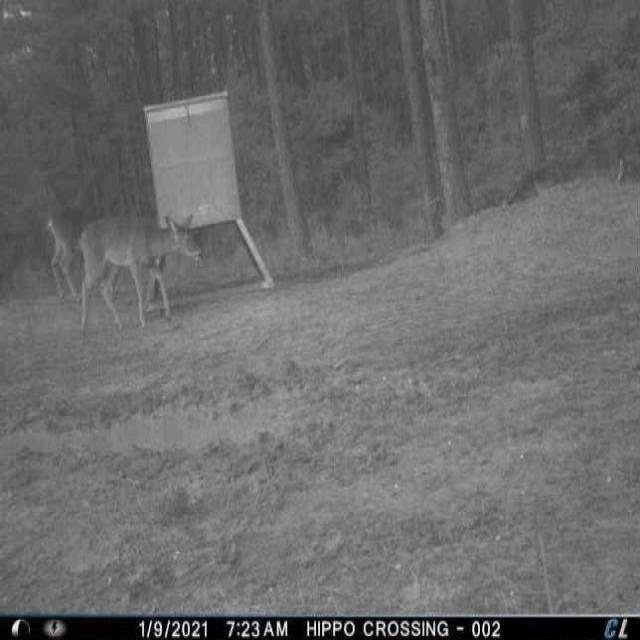deer: (80, 211, 204, 330), (52, 198, 94, 302)
